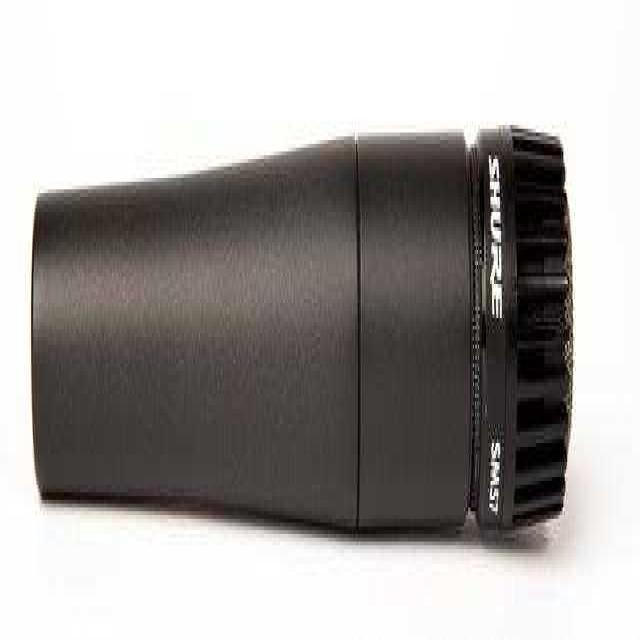microphone: (29, 118, 572, 545)
